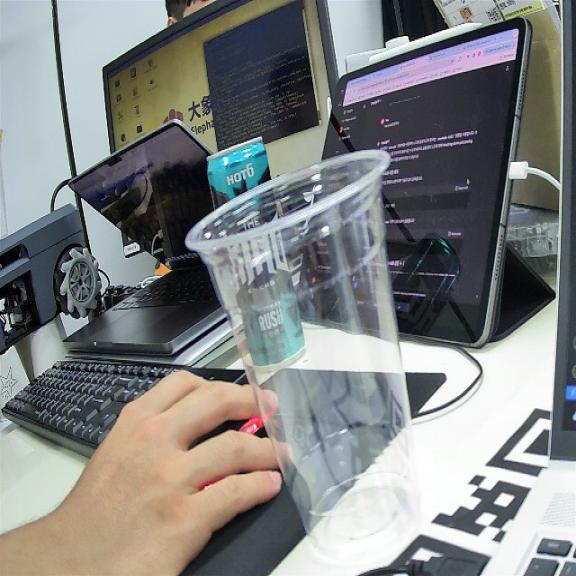Plastik: (187, 150, 418, 566)
